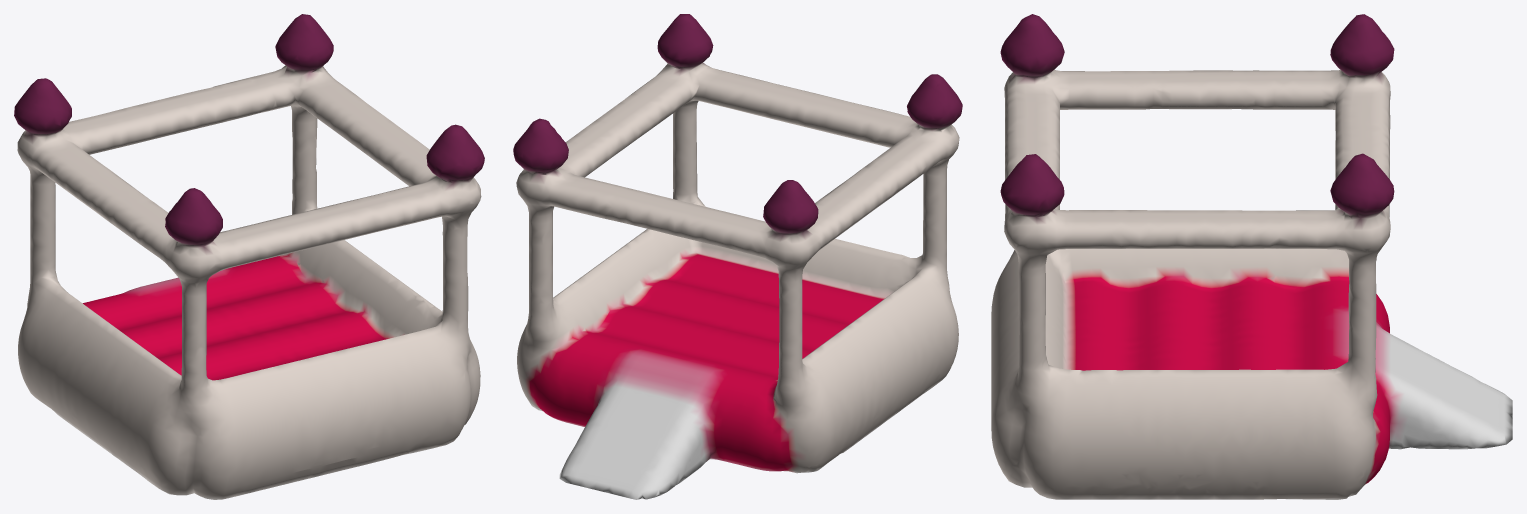
Rendered from bouncyCastle.fbx.
3 views of the same model, side by side, from view 1: azimuth 30°, elevation 25°; view 2: azimuth 150°, elevation 25°; view 3: azimuth 270°, elevation 25° (orthographic). The views are drawn at different scales.
Visible parts, largest first — view 1: bouncy; view 2: bouncy; view 3: bouncy.
Boxes of the visible parts, x1,y1,x2,y2 form: bouncy: (14, 14, 484, 499); bouncy: (513, 14, 962, 499); bouncy: (991, 14, 1512, 499).
Size of the model in its own units: 3000 by 2699 by 3792.
